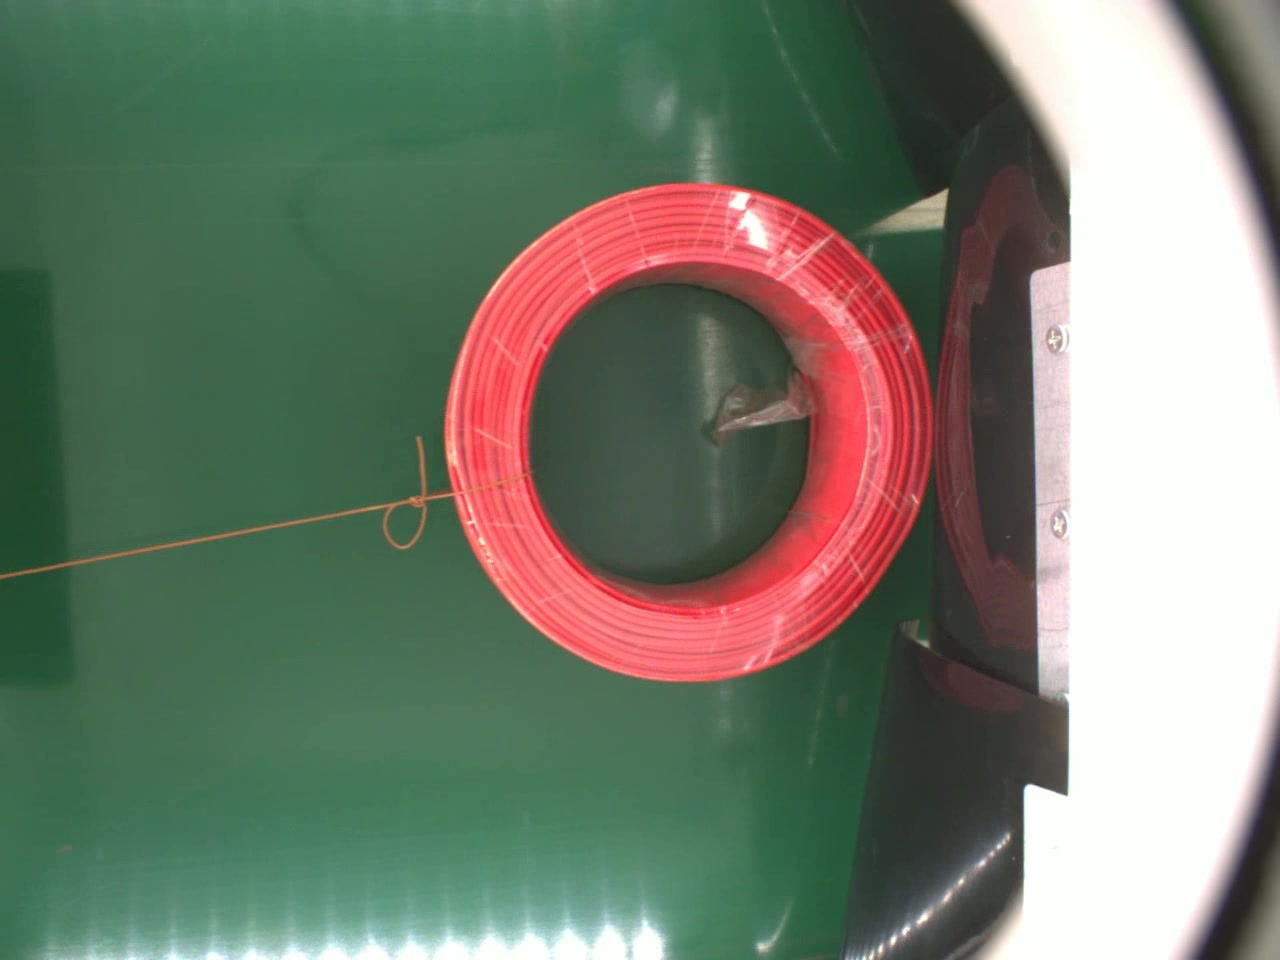red: (441, 181, 935, 687)
